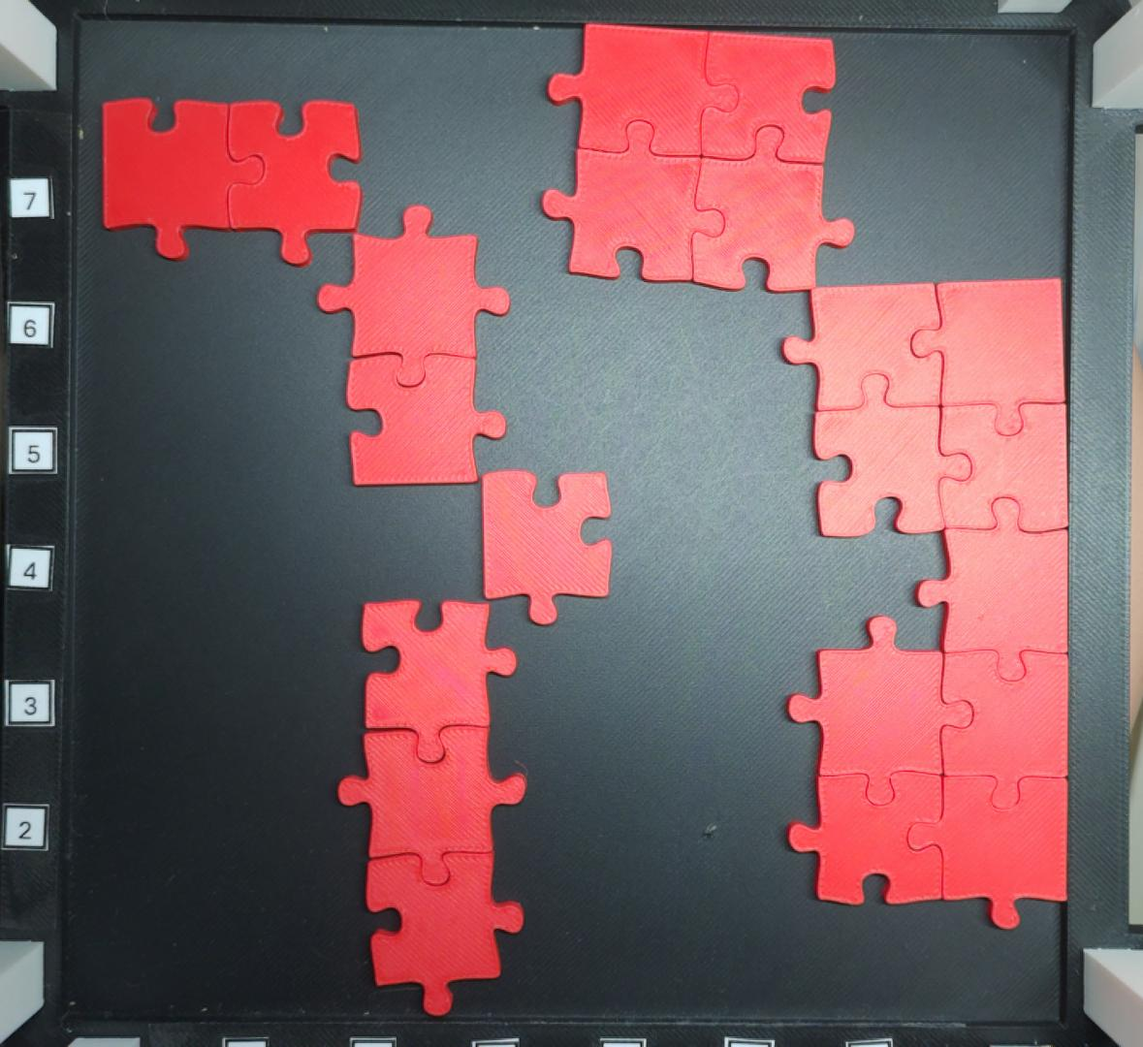p_1: (481, 470, 613, 626)
p_2: (317, 206, 511, 487), (99, 97, 363, 267)
p_3: (336, 598, 526, 1017)
p_4: (541, 23, 854, 293)
p_m: (783, 277, 1070, 931)
